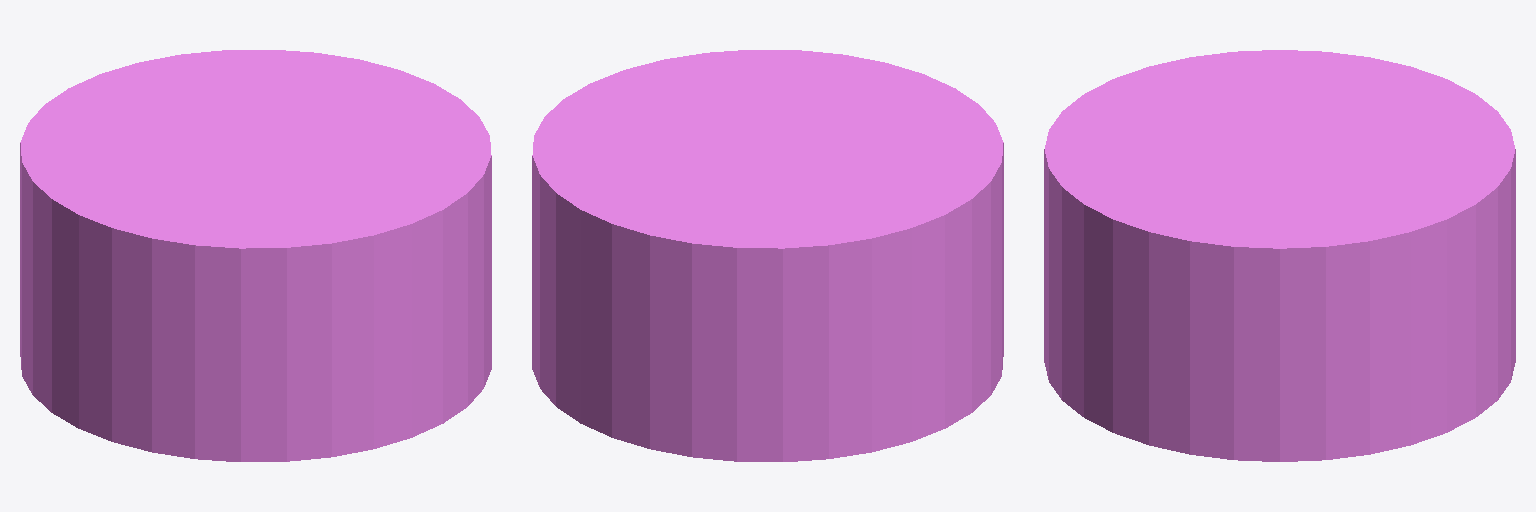
URDF robot description (cylinder_robot):
<?xml version="1.0"?>
<robot name="cylinder_robot">
  <link name="base_link">
    <contact>
      <lateral_friction value="0.05"/>
      <spinning_friction value=".001"/>
    </contact>
    <inertial>
      <origin rpy="0 0 0" xyz="0 0 0"/>
      <mass value="0.1"/>
      <inertia ixx="0.0001" ixy="0" ixz="0" iyy="0.0001" iyz="0" izz="0.0001"/>
    </inertial>
    <visual>
      <origin rpy="0 0 0" xyz="0.0 0.0 0.0"/>
      <geometry>
        <cylinder length="0.02" radius="0.02"/>
      </geometry>
      <material name="blockmat">
        <color rgba="1 0.6 1 1"/>
      </material>
    </visual>
    <collision>
      <origin rpy="0 0 0" xyz="0.0 0.0 0.0"/>
      <geometry>
        <cylinder length="0.02" radius="0.02"/>
      </geometry>
    </collision>
  </link>
</robot>

--- What the picture shows (computed from the rendered views, not written in the file) ---
The picture shows the robot from 3 angles, left to right: view 1: azimuth 30°, elevation 25°; view 2: azimuth 150°, elevation 25°; view 3: azimuth 270°, elevation 25°; orthographic projection.
Model cylinder_robot with 1 links and 0 joints (none), rooted at base_link, posed every joint at zero.
Links seen in each view (by area): view 1: base_link; view 2: base_link; view 3: base_link.
Link boxes in pixels (box(x1,y1,x2,y2)): base_link: box(20, 50, 491, 461); base_link: box(532, 50, 1003, 461); base_link: box(1044, 50, 1515, 461).
Bounding box of the posed robot: 0.04 × 0.04 × 0.02 m (x, y, z).
Geometry: primitives only (box / cylinder / sphere), no mesh files.